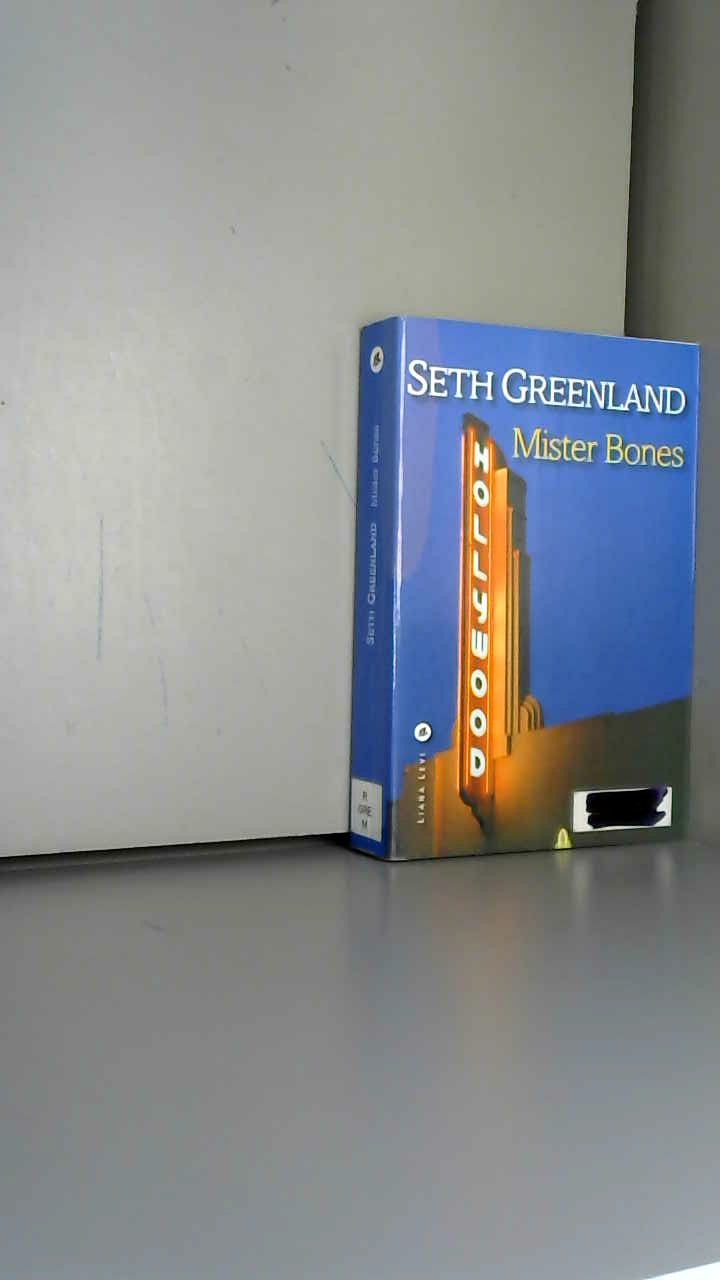book: (320, 290, 718, 882)
